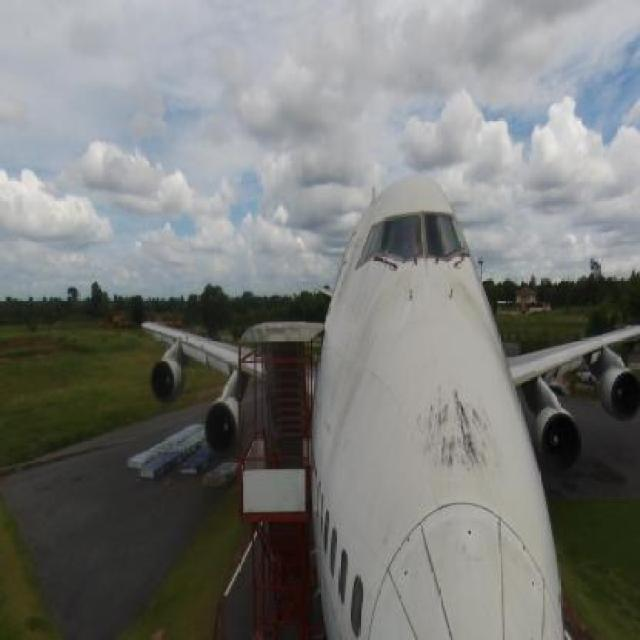Rust: (414, 384, 506, 499), (458, 286, 500, 368)
Scartch: (322, 285, 389, 447)
